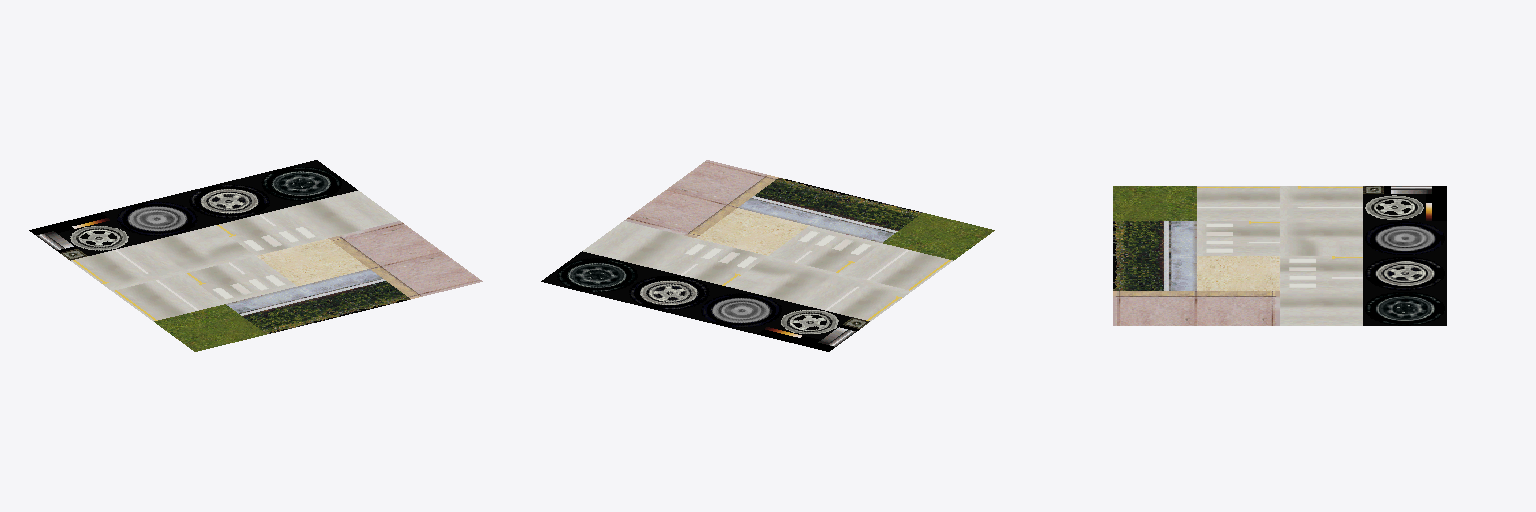
3 views of the same model, side by side, from view 1: azimuth 30°, elevation 25°; view 2: azimuth 150°, elevation 25°; view 3: azimuth 270°, elevation 25° (orthographic).
Size of the model in its own units: 20 by 0 by 20.
1 materials, 1 textured.